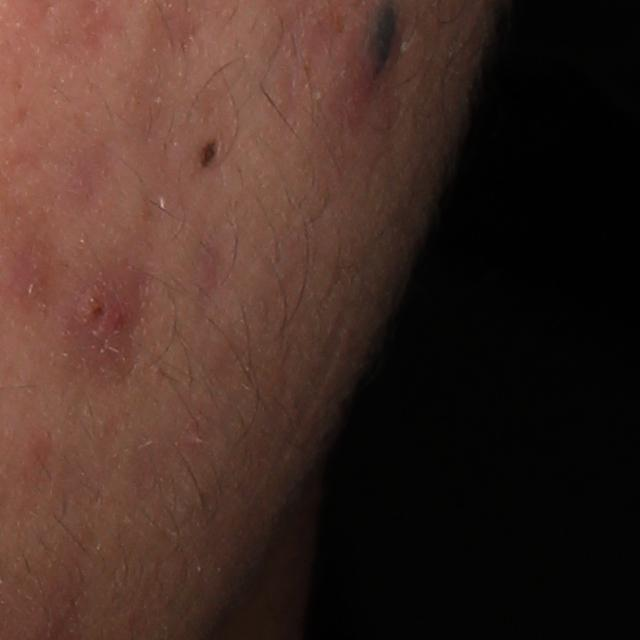nevus: (196, 137, 221, 167)
papule: (74, 278, 131, 334)
